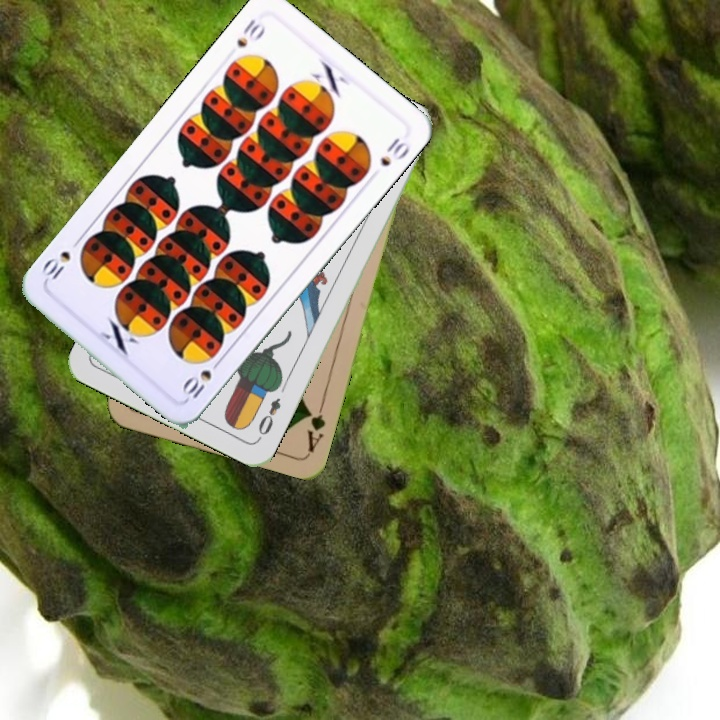EO: (254, 393, 284, 443)
GA: (302, 396, 328, 455)
S10: (178, 354, 225, 402), (232, 14, 262, 50)
